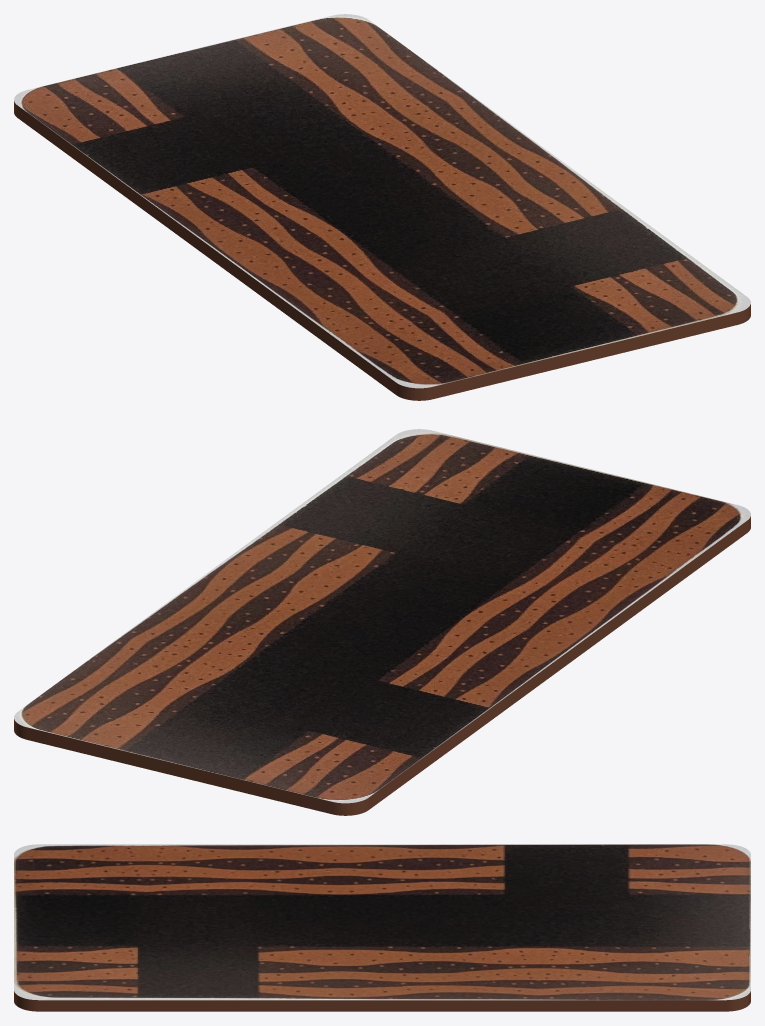
3 renders of one model, top to bottom at view 1: azimuth 30°, elevation 25°; view 2: azimuth 150°, elevation 25°; view 3: azimuth 270°, elevation 25°, orthographic. The views are drawn at different scales.
Visible parts, largest first — view 1: g2; view 2: g2; view 3: g2.
Boxes of the visible parts, x1,y1,x2,y2 form: g2: (14,14,750,400); g2: (14,429,750,815); g2: (14,844,750,1011).
Bounding box in the file's own units: 0.044 × 0.0015 × 0.088.
Materials: 3 (2 with a texture image).
